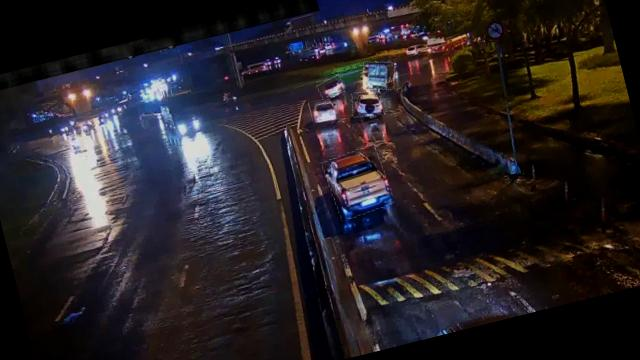Car: (322, 144, 394, 221), (350, 88, 384, 121), (308, 96, 341, 128), (316, 76, 346, 101)
Truck: (358, 57, 398, 94)
